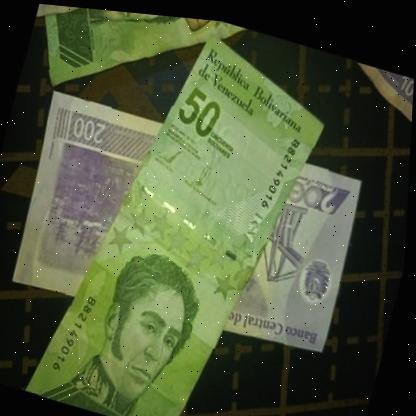fifty-front-vef: (26, 3, 339, 416), (17, 2, 251, 131)
ten-back-vef: (336, 49, 415, 125), (35, 3, 140, 45)
two_hundred-back-vef: (5, 82, 368, 368)
